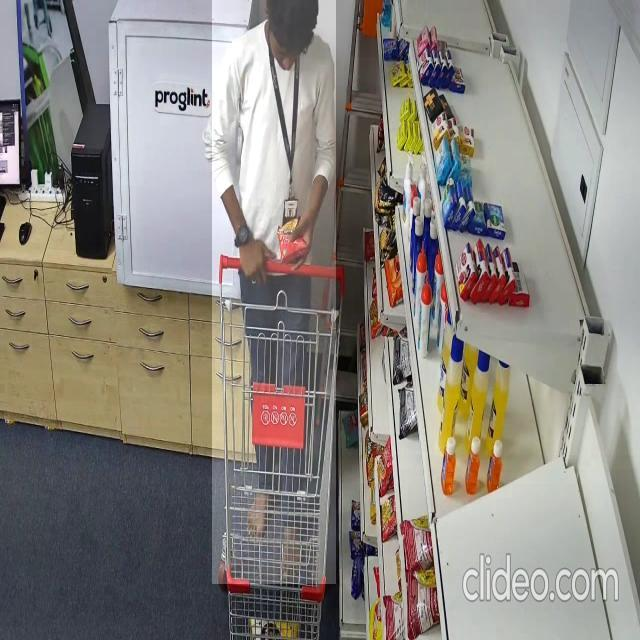normal: (212, 0, 336, 584)
